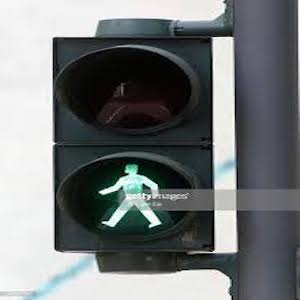green: (96, 161, 165, 233)
